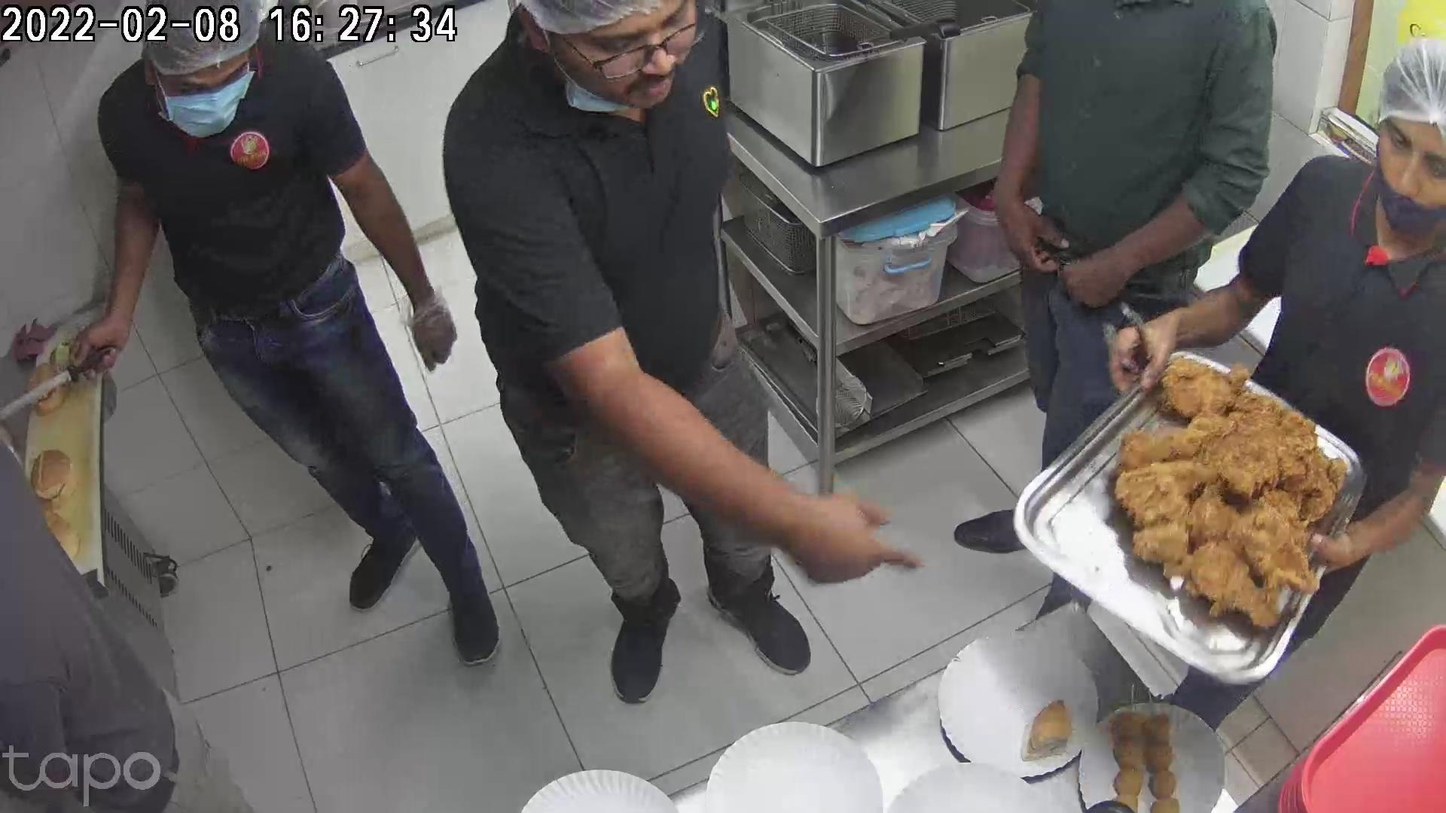gloves: (402, 275, 456, 364)
